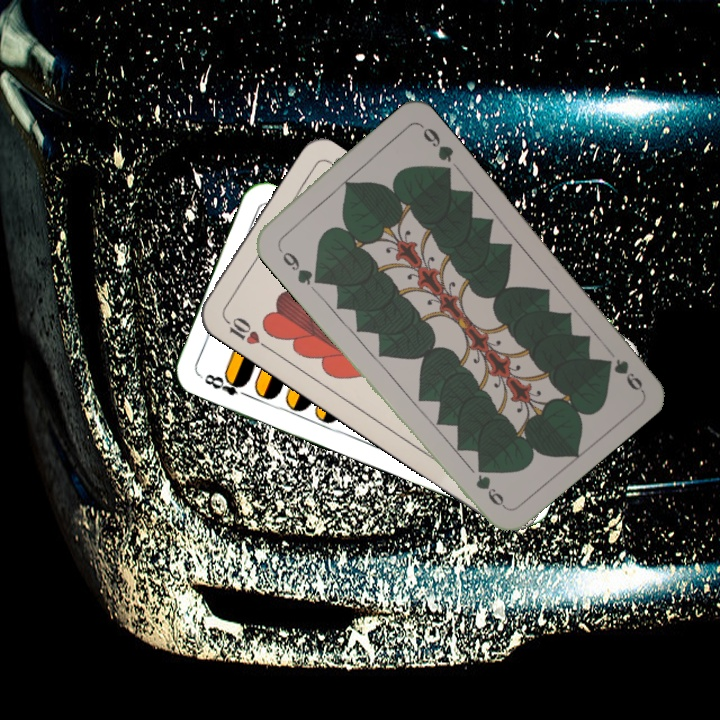E8: (197, 370, 254, 401)
G9: (273, 242, 322, 288), (600, 354, 646, 394)
H10: (219, 312, 271, 352)
